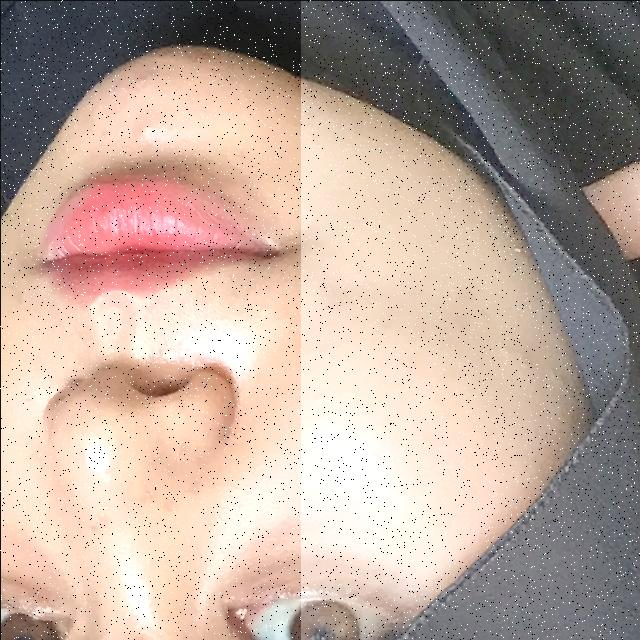mendengar: (300, 0, 640, 640)
